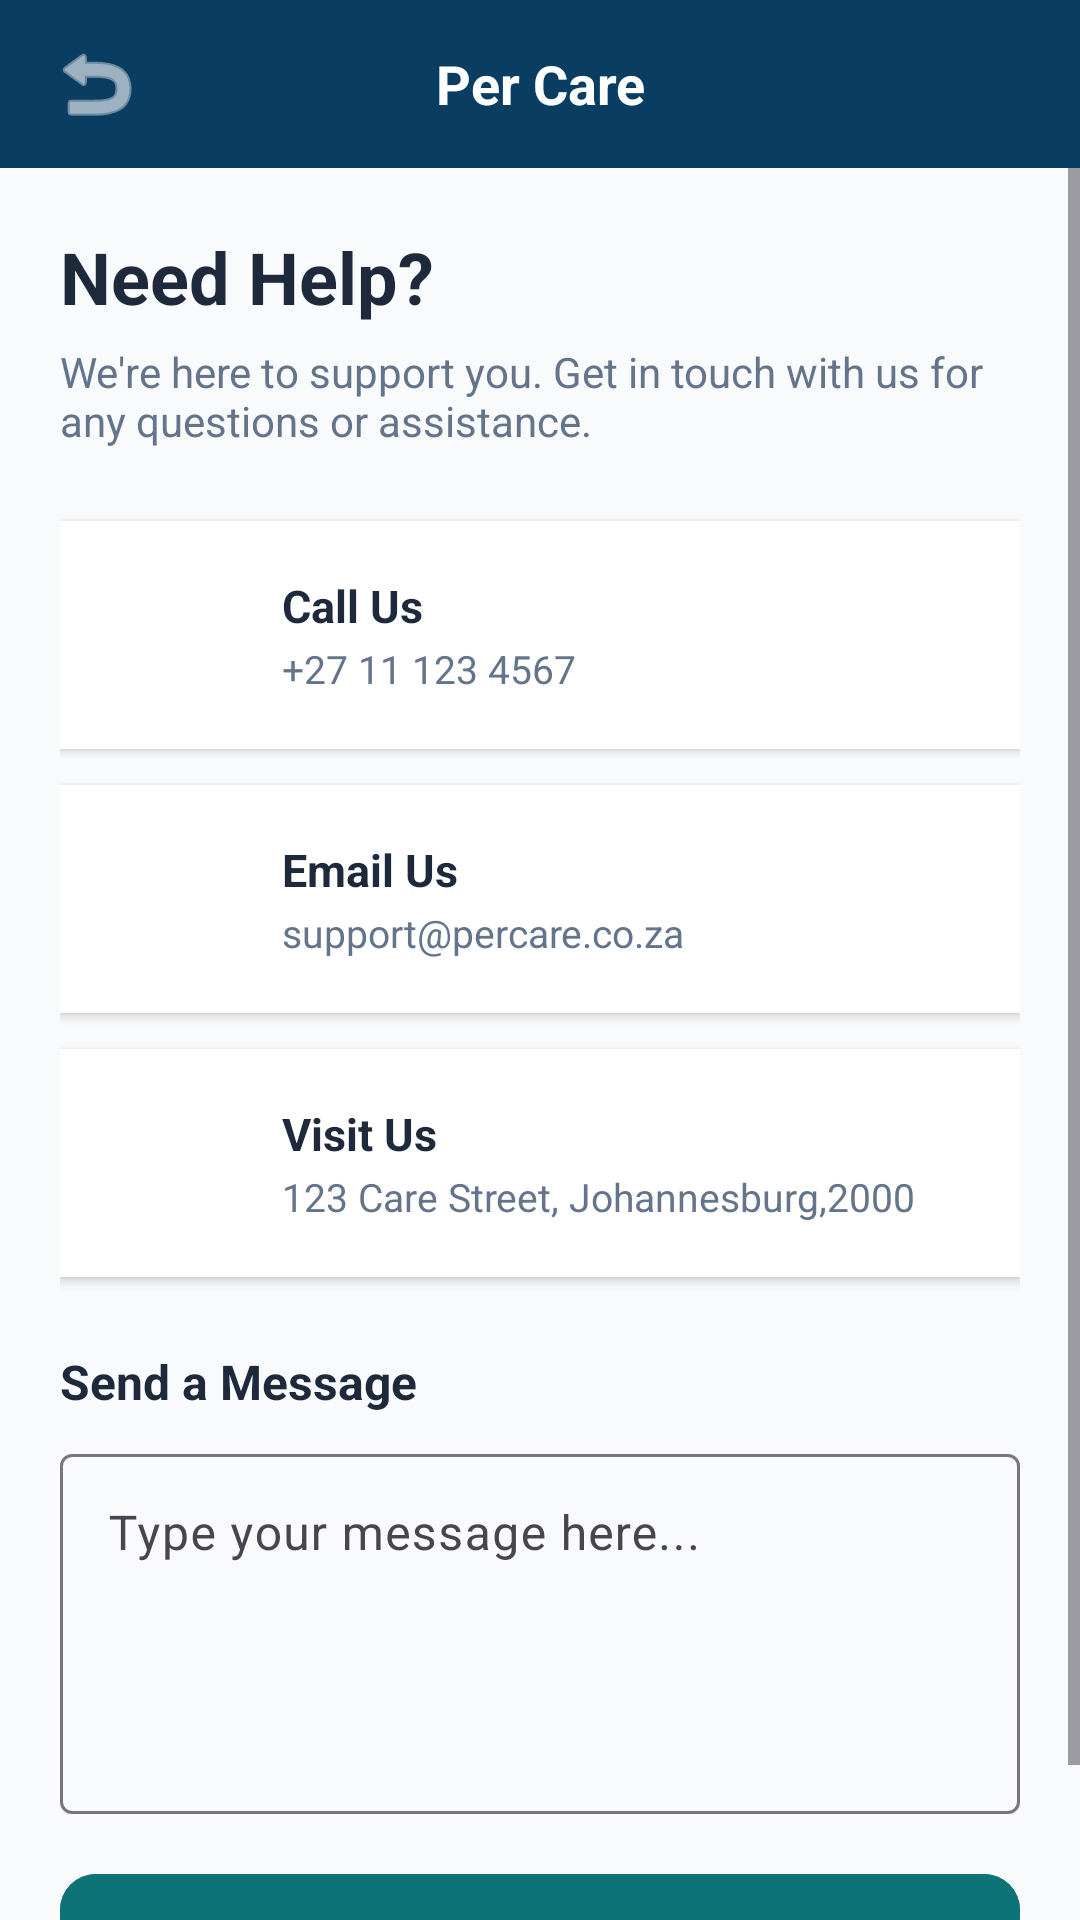

Icon click points for this 1080w x 1920h phone screenshot, format point (x, y):
revert: point (97, 84)
